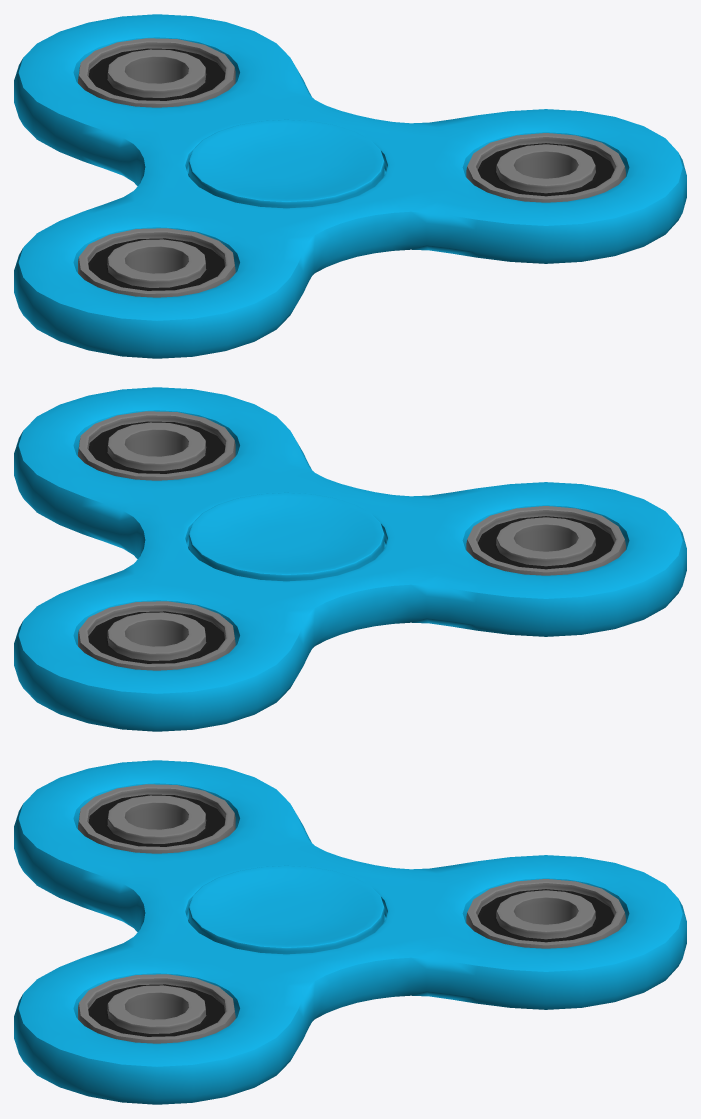
The picture shows the model from 3 angles, top to bottom: view 1: azimuth 30°, elevation 25°; view 2: azimuth 150°, elevation 25°; view 3: azimuth 270°, elevation 25°; orthographic projection.
Parts seen in each view (by area): view 1: Disc, Cylinder_2, Cylinder_3, Cylinder_1; view 2: Disc, Cylinder_1, Cylinder_2, Cylinder_3; view 3: Disc, Cylinder_3, Cylinder_1, Cylinder_2.
Part boxes in pixels (x1=…): Disc: x1=14, y1=14, x2=686, y2=358; Cylinder_2: x1=466, y1=133, x2=625, y2=202; Cylinder_3: x1=78, y1=38, x2=235, y2=107; Cylinder_1: x1=78, y1=228, x2=235, y2=297; Disc: x1=14, y1=387, x2=686, y2=731; Cylinder_1: x1=466, y1=506, x2=625, y2=575; Cylinder_2: x1=78, y1=411, x2=235, y2=480; Cylinder_3: x1=78, y1=601, x2=235, y2=670; Disc: x1=14, y1=760, x2=686, y2=1104; Cylinder_3: x1=466, y1=879, x2=625, y2=948; Cylinder_1: x1=78, y1=784, x2=235, y2=853; Cylinder_2: x1=78, y1=974, x2=235, y2=1043.
Size of the model in its own units: 399 by 31.2 by 366.
